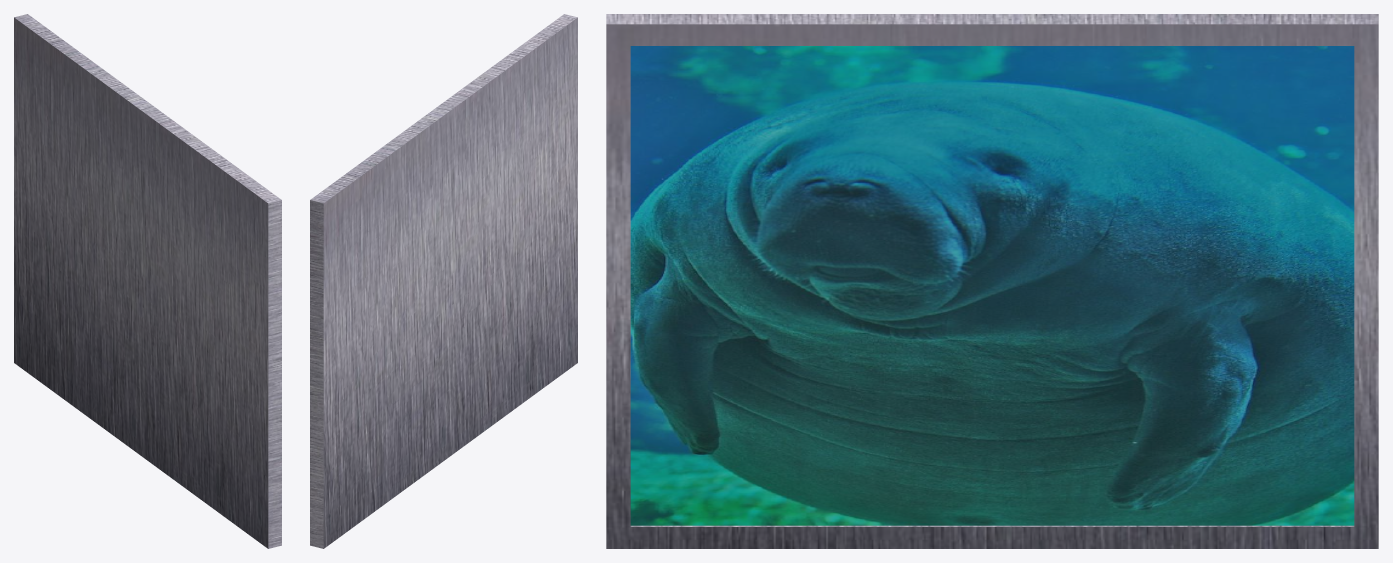
The model's file is picture_and_frame.dae.
3 views of the same model, side by side, from view 1: azimuth 30°, elevation 25°; view 2: azimuth 150°, elevation 25°; view 3: azimuth 270°, elevation 25° (orthographic). The views are drawn at different scales.
Parts seen in each view (by area): view 1: SketchUp; view 2: SketchUp; view 3: SketchUp_002, SketchUp, SketchUp_001.
Boxes of the visible parts, bbox=[...] form: SketchUp: bbox=[14, 14, 281, 548]; SketchUp: bbox=[310, 14, 577, 548]; SketchUp_002: bbox=[630, 46, 1354, 525]; SketchUp: bbox=[606, 14, 1378, 548]; SketchUp_001: bbox=[630, 525, 1354, 526].
Bounding box in the file's own units: 0.0127 × 0.4064 × 0.3048.
2 materials, 2 textured.
